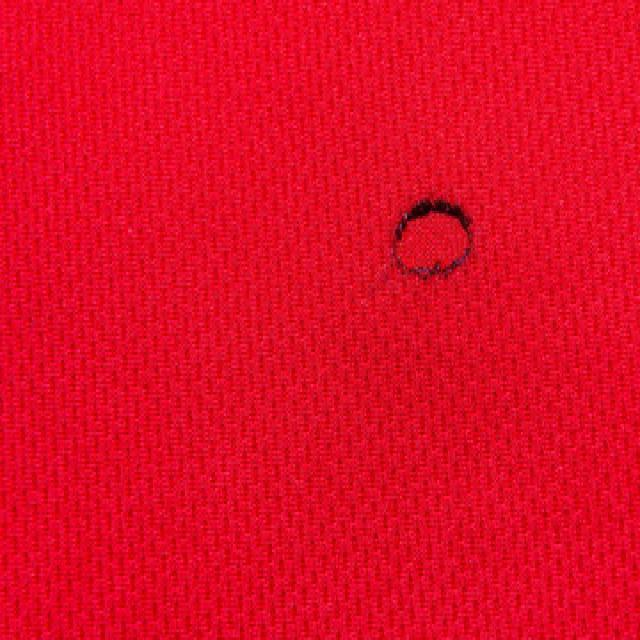Hole: (392, 199, 472, 278)
